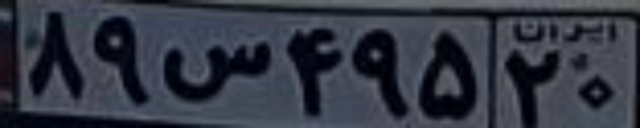0: (571, 72, 617, 110)
2: (502, 46, 561, 127)
4: (284, 28, 343, 116)
5: (415, 31, 478, 121)
8: (23, 9, 87, 97)
9: (349, 28, 410, 118), (92, 15, 146, 106)
sin: (162, 39, 277, 102)
